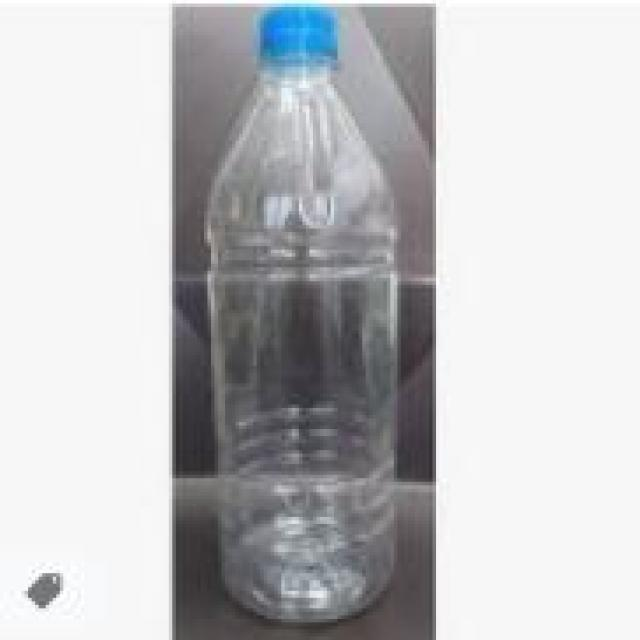bottle: (193, 3, 404, 633)
